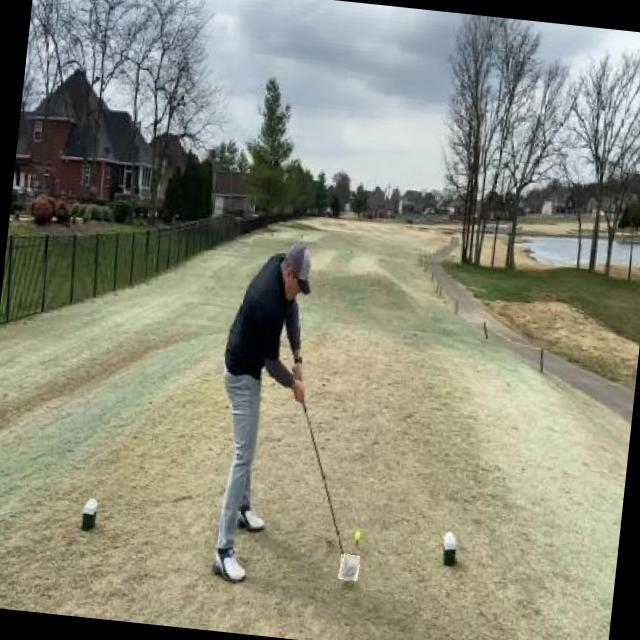club head: (338, 554, 360, 580)
